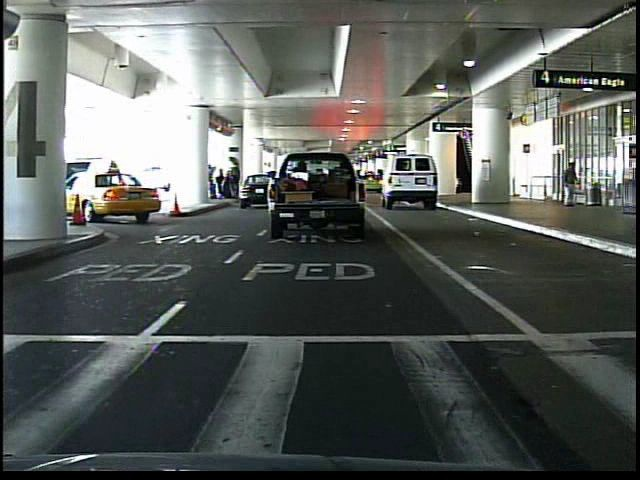person: (559, 160, 580, 212)
